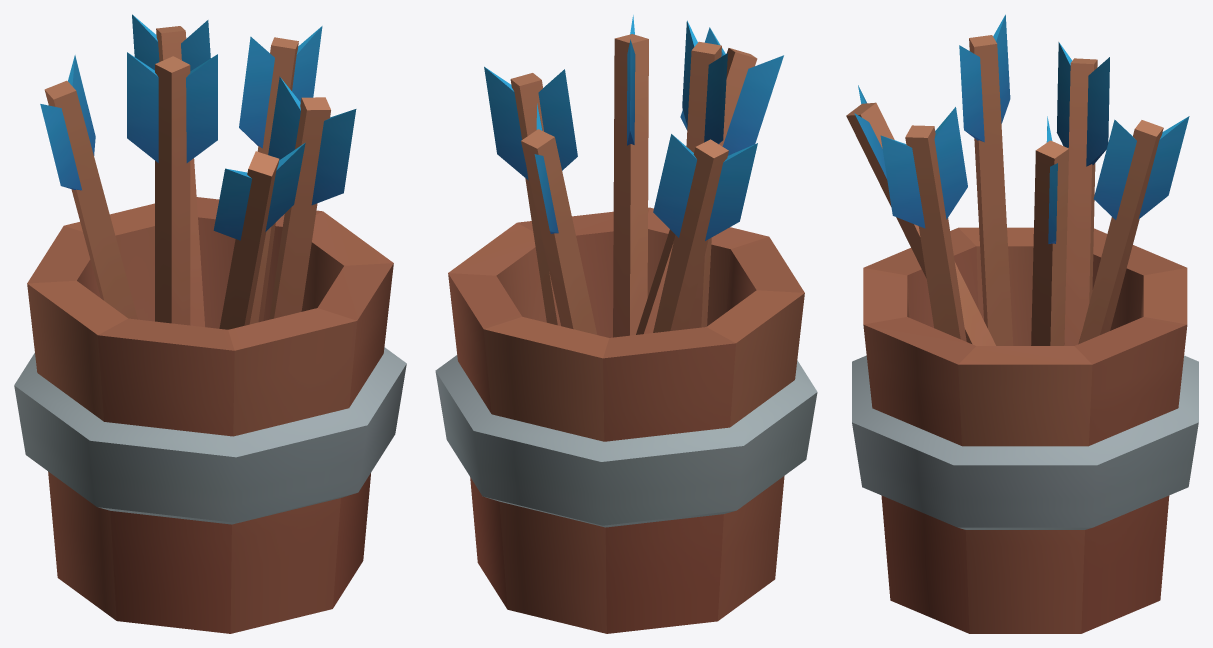
File: kay-balde-flechas.gltf
The picture shows the model from 3 angles, left to right: view 1: azimuth 30°, elevation 25°; view 2: azimuth 150°, elevation 25°; view 3: azimuth 270°, elevation 25°; orthographic projection. The views are drawn at different scales.
Parts seen in each view (by area): view 1: bucket_arrows; view 2: bucket_arrows; view 3: bucket_arrows.
Boxes of the visible parts, box(x1,y1,x2,y2) form: bucket_arrows: box(14, 14, 406, 633); bucket_arrows: box(435, 15, 817, 633); bucket_arrows: box(846, 14, 1198, 633).
Size of the model in its own units: 0.7 by 1.16 by 0.7117.
1 material, 1 textured.
